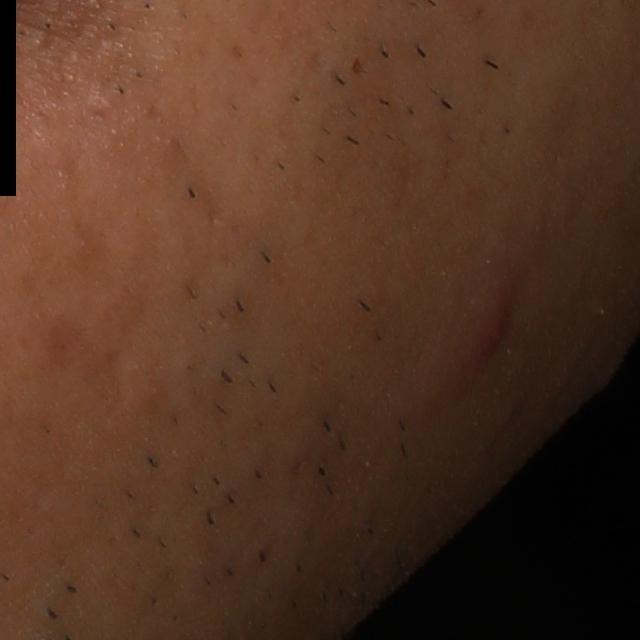papule: (465, 298, 514, 368)
